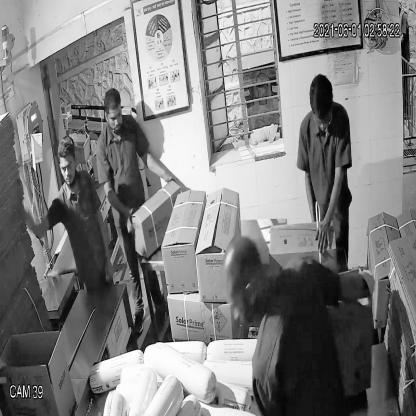no_goggles: (56, 156, 78, 177)
